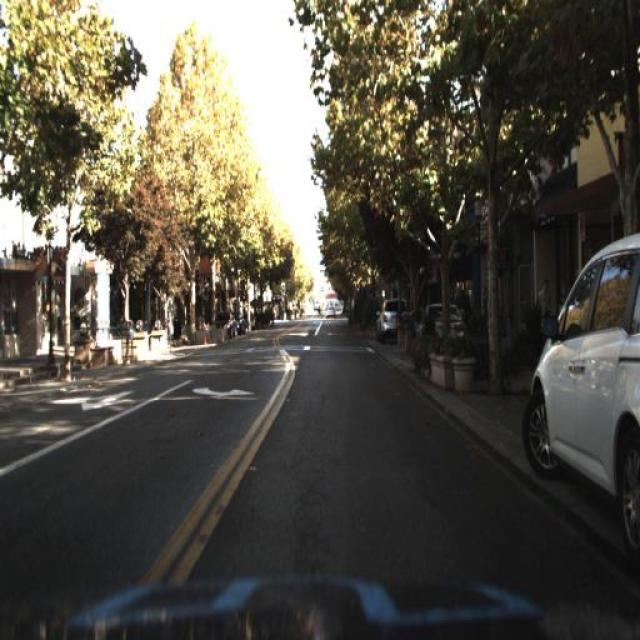car: (524, 230, 640, 559), (416, 300, 468, 344), (373, 296, 406, 348)
trafficLight: (529, 268, 555, 364)
